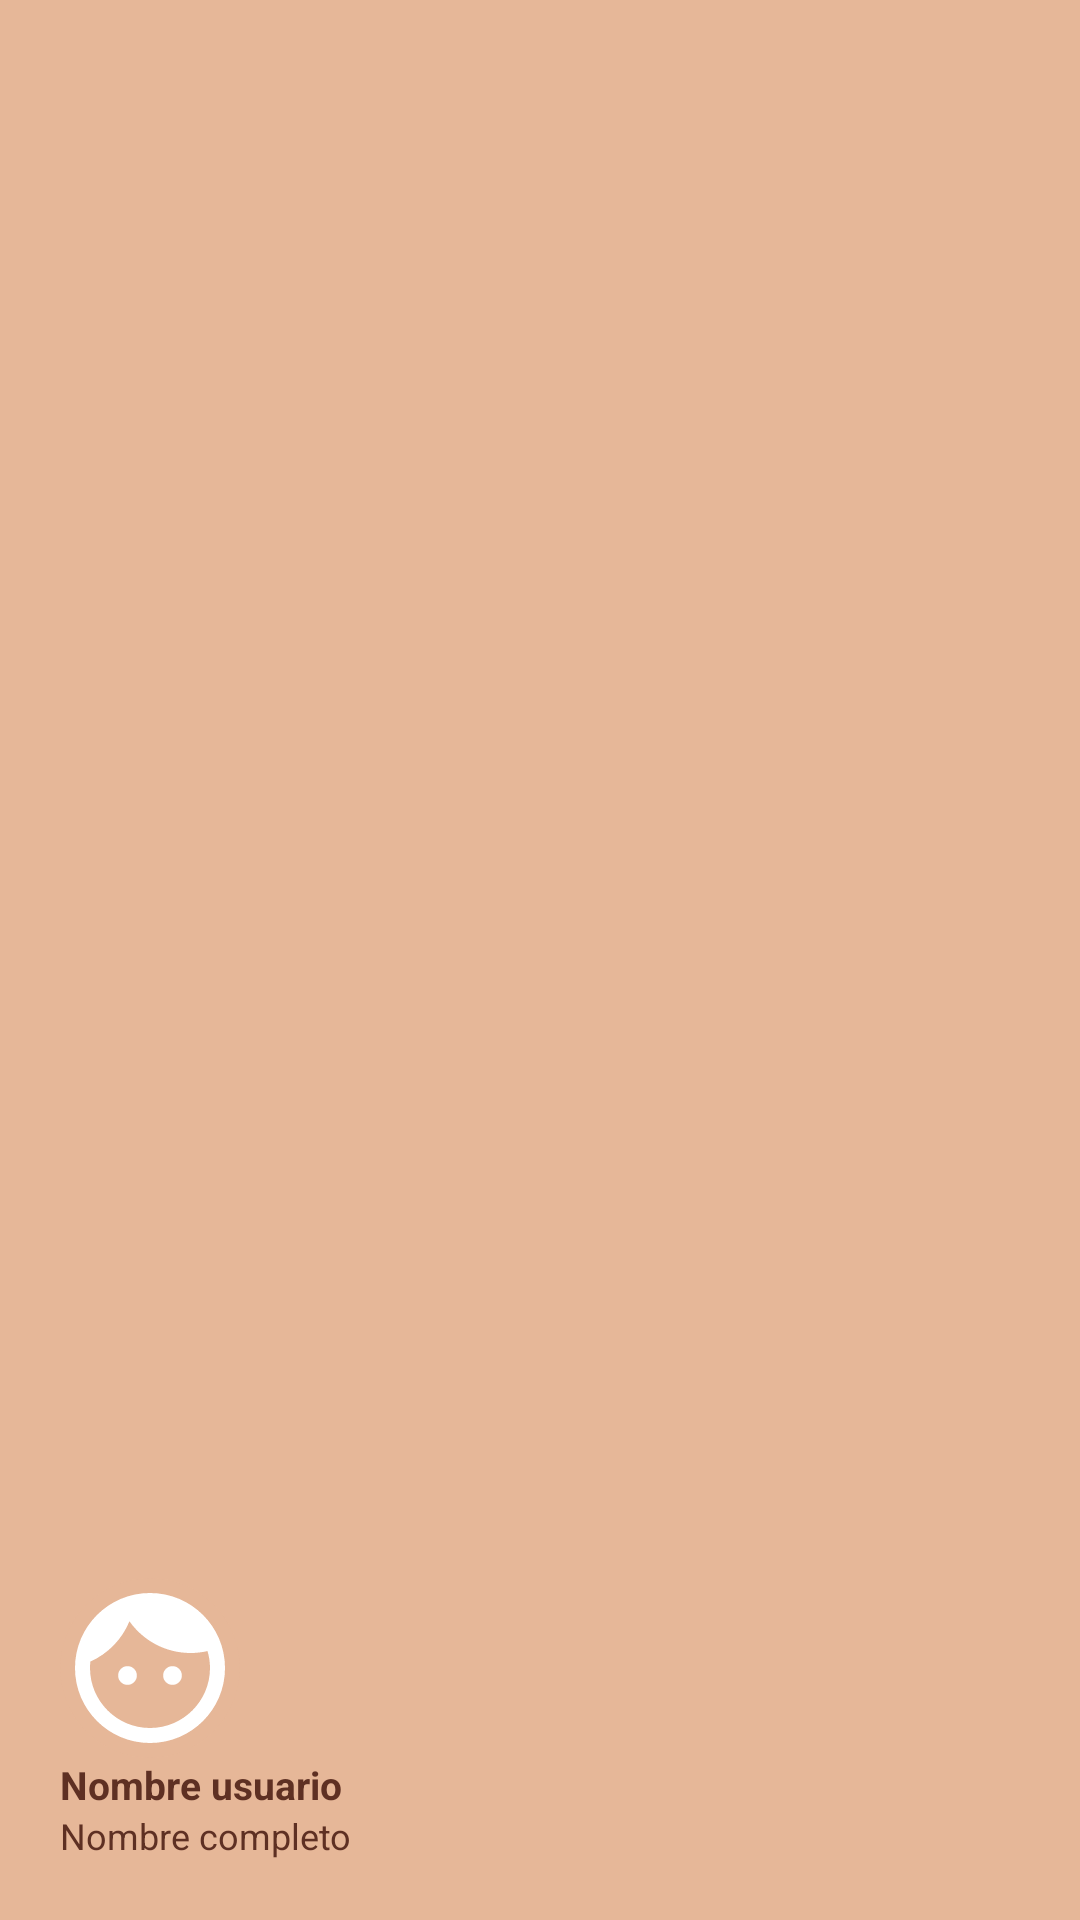

Named icons in this screenshot (1080px×1920px) and their centers, (x=x, y=y):
person: (x=150, y=1668)
